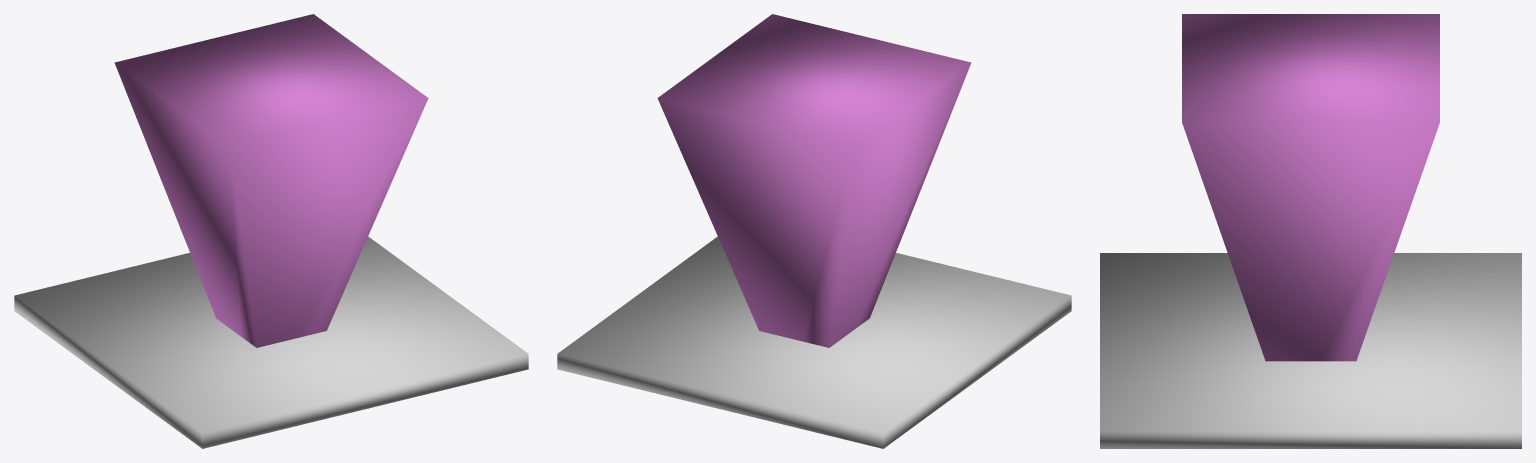
The model's file is forceElevatorUp.fbx.
The picture shows the model from 3 angles, left to right: view 1: azimuth 30°, elevation 25°; view 2: azimuth 150°, elevation 25°; view 3: azimuth 270°, elevation 25°; orthographic projection. The views are drawn at different scales.
Parts seen in each view (by area): view 1: ForceLiftUp, ForceLiftUpRotor; view 2: ForceLiftUp, ForceLiftUpRotor; view 3: ForceLiftUp, ForceLiftUpRotor.
Part boxes in pixels (<box>): ForceLiftUp: <box>114,14,428,347</box>; ForceLiftUpRotor: <box>14,236,528,448</box>; ForceLiftUp: <box>657,14,971,347</box>; ForceLiftUpRotor: <box>557,236,1071,448</box>; ForceLiftUp: <box>1182,14,1439,361</box>; ForceLiftUpRotor: <box>1100,253,1521,448</box>.
Size of the model in its own units: 0.2008 by 0.1865 by 0.2008.
